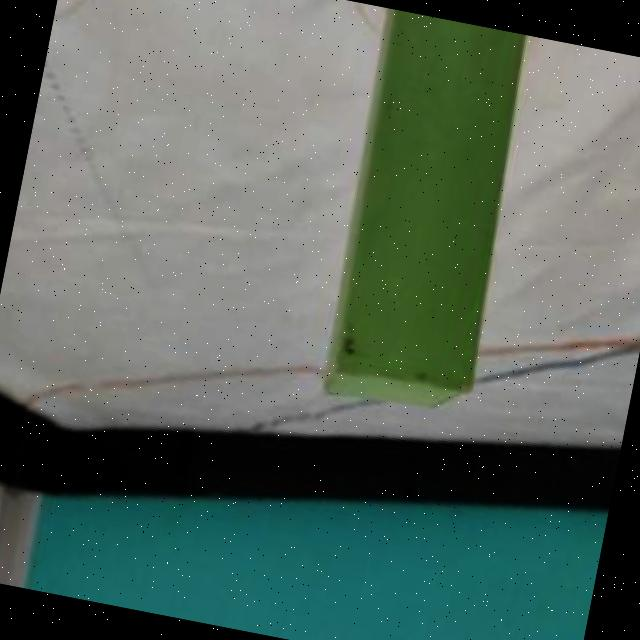greenbox: (316, 9, 542, 426)
